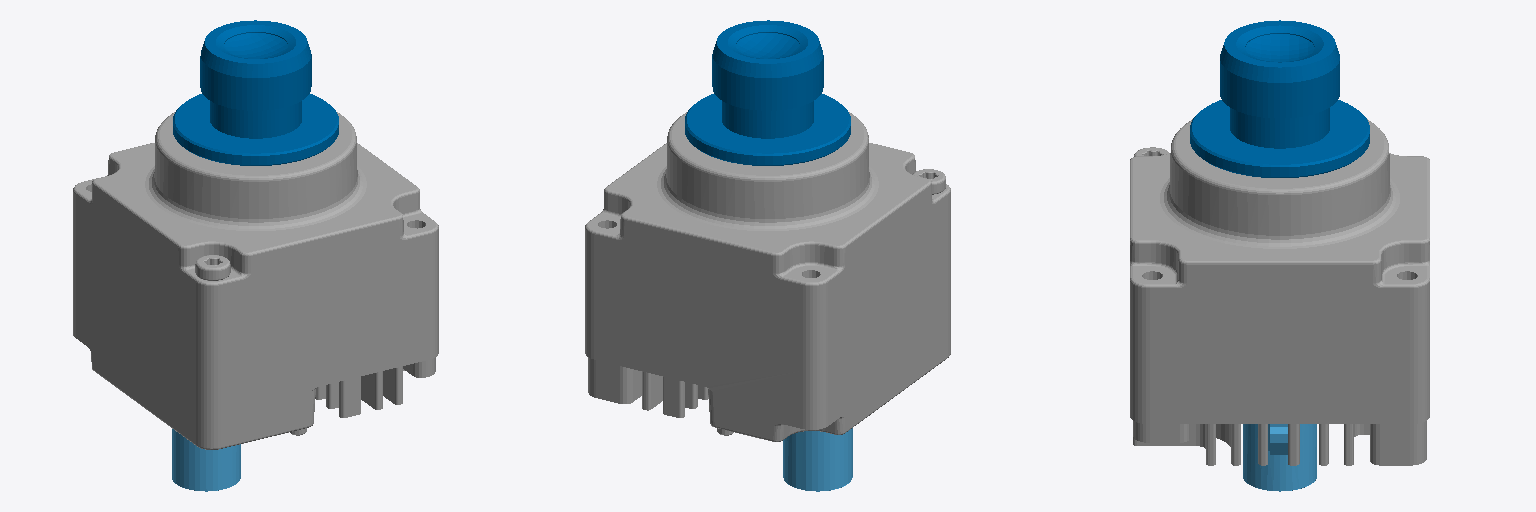
robot.urdf — SG2_OX03CC_5200_G2F_H60FA:
<?xml version="1.0"?>
<!-- Generated by usd2urdf.py from SG2_OX03CC_5200_G2F_H60FA.calibrated.acceptance.usd -->
<!-- metersPerUnit=0.01 upAxis=Z -->
<robot name="SG2_OX03CC_5200_G2F_H60FA">
  <link name="base_link">
  </link>
  <link name="Root">
  </link>
  <link name="SG2_OX03CC_5200_G2F_H60FA">
  </link>
  <link name="Lens">
  </link>
  <link name="Mesh">
    <visual>
      <origin xyz="0 0 0" rpy="0 0 0"/>
      <geometry>
        <mesh filename="meshes/Mesh.stl"/>
      </geometry>
    </visual>
    <collision>
      <origin xyz="0 0 0" rpy="0 0 0"/>
      <geometry>
        <mesh filename="meshes/Mesh.stl"/>
      </geometry>
    </collision>
    <inertial>
      <origin xyz="0 0 0" rpy="0 0 0"/>
      <mass value="0.15"/>
      <inertia ixx="0.000809999997" ixy="0" ixz="0" iyy="0.000797942422" iyz="0" izz="0.000797942422"/>
    </inertial>
  </link>
  <link name="SG2_OX03CC_5200_G2F_H60FA_1">
  </link>
  <link name="Bottom">
  </link>
  <link name="Mesh_1">
    <visual>
      <origin xyz="0 0 0" rpy="0 0 0"/>
      <geometry>
        <mesh filename="meshes/Mesh_1.stl"/>
      </geometry>
    </visual>
    <collision>
      <origin xyz="0 0 0" rpy="0 0 0"/>
      <geometry>
        <mesh filename="meshes/Mesh_1.stl"/>
      </geometry>
    </collision>
    <inertial>
      <origin xyz="0 0 0" rpy="0 0 0"/>
      <mass value="0.15"/>
      <inertia ixx="0.00129523575" ixy="0" ixz="0" iyy="0.00129523605" iyz="0" izz="0.00224999959"/>
    </inertial>
  </link>
  <link name="Fakra">
  </link>
  <link name="Mesh_2">
    <visual>
      <origin xyz="0 0 0" rpy="0 0 0"/>
      <geometry>
        <mesh filename="meshes/Mesh_2.stl"/>
      </geometry>
    </visual>
    <collision>
      <origin xyz="0 0 0" rpy="0 0 0"/>
      <geometry>
        <mesh filename="meshes/Mesh_2.stl"/>
      </geometry>
    </collision>
    <inertial>
      <origin xyz="0 0 0" rpy="0 0 0"/>
      <mass value="0.15"/>
      <inertia ixx="0.000664724477" ixy="0" ixz="0" iyy="0.00058952817" iyz="0" izz="0.000885196305"/>
    </inertial>
  </link>
  <link name="Screw_0">
  </link>
  <link name="Mesh_3">
    <visual>
      <origin xyz="0 0 0" rpy="0 0 0"/>
      <geometry>
        <mesh filename="meshes/Mesh_3.stl"/>
      </geometry>
    </visual>
    <collision>
      <origin xyz="0 0 0" rpy="0 0 0"/>
      <geometry>
        <mesh filename="meshes/Mesh_3.stl"/>
      </geometry>
    </collision>
    <inertial>
      <origin xyz="0 0 0" rpy="0 0 0"/>
      <mass value="0.15"/>
      <inertia ixx="5.56403021e-05" ixy="0" ixz="0" iyy="6.83231456e-05" iyz="0" izz="7.4797204e-05"/>
    </inertial>
  </link>
  <link name="Screw_1">
  </link>
  <link name="Mesh_4">
    <visual>
      <origin xyz="0 0 0" rpy="0 0 0"/>
      <geometry>
        <mesh filename="meshes/Mesh_4.stl"/>
      </geometry>
    </visual>
    <collision>
      <origin xyz="0 0 0" rpy="0 0 0"/>
      <geometry>
        <mesh filename="meshes/Mesh_4.stl"/>
      </geometry>
    </collision>
    <inertial>
      <origin xyz="0 0 0" rpy="0 0 0"/>
      <mass value="0.15"/>
      <inertia ixx="5.56403021e-05" ixy="0" ixz="0" iyy="6.83231456e-05" iyz="0" izz="7.4797204e-05"/>
    </inertial>
  </link>
  <link name="Screw_2">
  </link>
  <link name="Mesh_5">
    <visual>
      <origin xyz="0 0 0" rpy="0 0 0"/>
      <geometry>
        <mesh filename="meshes/Mesh_5.stl"/>
      </geometry>
    </visual>
    <collision>
      <origin xyz="0 0 0" rpy="0 0 0"/>
      <geometry>
        <mesh filename="meshes/Mesh_5.stl"/>
      </geometry>
    </collision>
    <inertial>
      <origin xyz="0 0 0" rpy="0 0 0"/>
      <mass value="0.15"/>
      <inertia ixx="0.00019460141" ixy="0" ixz="0" iyy="0.000318485579" iyz="0" izz="0.000361750605"/>
    </inertial>
  </link>
  <link name="Screw_3">
  </link>
  <link name="Mesh_6">
    <visual>
      <origin xyz="0 0 0" rpy="0 0 0"/>
      <geometry>
        <mesh filename="meshes/Mesh_6.stl"/>
      </geometry>
    </visual>
    <collision>
      <origin xyz="0 0 0" rpy="0 0 0"/>
      <geometry>
        <mesh filename="meshes/Mesh_6.stl"/>
      </geometry>
    </collision>
    <inertial>
      <origin xyz="0 0 0" rpy="0 0 0"/>
      <mass value="0.15"/>
      <inertia ixx="0.00019460141" ixy="0" ixz="0" iyy="0.000318485579" iyz="0" izz="0.000361750605"/>
    </inertial>
  </link>
  <link name="Screw_4">
  </link>
  <link name="Mesh_7">
    <visual>
      <origin xyz="0 0 0" rpy="0 0 0"/>
      <geometry>
        <mesh filename="meshes/Mesh_7.stl"/>
      </geometry>
    </visual>
    <collision>
      <origin xyz="0 0 0" rpy="0 0 0"/>
      <geometry>
        <mesh filename="meshes/Mesh_7.stl"/>
      </geometry>
    </collision>
    <inertial>
      <origin xyz="0 0 0" rpy="0 0 0"/>
      <mass value="0.15"/>
      <inertia ixx="0.00019460141" ixy="0" ixz="0" iyy="0.000318485579" iyz="0" izz="0.000361750605"/>
    </inertial>
  </link>
  <link name="Screw_5">
  </link>
  <link name="Mesh_8">
    <visual>
      <origin xyz="0 0 0" rpy="0 0 0"/>
      <geometry>
        <mesh filename="meshes/Mesh_8.stl"/>
      </geometry>
    </visual>
    <collision>
      <origin xyz="0 0 0" rpy="0 0 0"/>
      <geometry>
        <mesh filename="meshes/Mesh_8.stl"/>
      </geometry>
    </collision>
    <inertial>
      <origin xyz="0 0 0" rpy="0 0 0"/>
      <mass value="0.15"/>
      <inertia ixx="0.00019460141" ixy="0" ixz="0" iyy="0.000318485579" iyz="0" izz="0.000361750605"/>
    </inertial>
  </link>
  <link name="Top">
  </link>
  <link name="Mesh_9">
    <visual>
      <origin xyz="0 0 0" rpy="0 0 0"/>
      <geometry>
        <mesh filename="meshes/Mesh_9.stl"/>
      </geometry>
    </visual>
    <collision>
      <origin xyz="0 0 0" rpy="0 0 0"/>
      <geometry>
        <mesh filename="meshes/Mesh_9.stl"/>
      </geometry>
    </collision>
    <inertial>
      <origin xyz="0 0 0" rpy="0 0 0"/>
      <mass value="0.15"/>
      <inertia ixx="0.00157553788" ixy="0" ixz="0" iyy="0.00157553788" iyz="0" izz="0.00225000018"/>
    </inertial>
  </link>
  <link name="MainBoard">
  </link>
  <link name="Mesh_10">
    <visual>
      <origin xyz="0 0 0" rpy="0 0 0"/>
      <geometry>
        <mesh filename="meshes/Mesh_10.stl"/>
      </geometry>
    </visual>
    <collision>
      <origin xyz="0 0 0" rpy="0 0 0"/>
      <geometry>
        <mesh filename="meshes/Mesh_10.stl"/>
      </geometry>
    </collision>
    <inertial>
      <origin xyz="0 0 0" rpy="0 0 0"/>
      <mass value="0.15"/>
      <inertia ixx="0.000699072973" ixy="0" ixz="0" iyy="0.000699072973" iyz="0" izz="0.00139240002"/>
    </inertial>
  </link>
  <link name="Fakra_1">
  </link>
  <link name="Mesh_11">
    <visual>
      <origin xyz="0 0 0" rpy="0 0 0"/>
      <geometry>
        <mesh filename="meshes/Mesh_11.stl"/>
      </geometry>
    </visual>
    <collision>
      <origin xyz="0 0 0" rpy="0 0 0"/>
      <geometry>
        <mesh filename="meshes/Mesh_11.stl"/>
      </geometry>
    </collision>
    <inertial>
      <origin xyz="0 0 0" rpy="0 0 0"/>
      <mass value="0.15"/>
      <inertia ixx="8.35274667e-05" ixy="0" ixz="0" iyy="9.47521382e-05" iyz="0" izz="6.43733459e-05"/>
    </inertial>
  </link>
  <link name="SealRing">
  </link>
  <link name="Mesh_12">
    <visual>
      <origin xyz="0 0 0" rpy="0 0 0"/>
      <geometry>
        <mesh filename="meshes/Mesh_12.stl"/>
      </geometry>
    </visual>
    <collision>
      <origin xyz="0 0 0" rpy="0 0 0"/>
      <geometry>
        <mesh filename="meshes/Mesh_12.stl"/>
      </geometry>
    </collision>
    <inertial>
      <origin xyz="0 0 0" rpy="0 0 0"/>
      <mass value="0.15"/>
      <inertia ixx="0.00194225054" ixy="0" ixz="0" iyy="0.000985244153" iyz="0" izz="0.000995913341"/>
    </inertial>
  </link>
  <link name="root_sg2_ox03cc_5200_g2f_h60fa">
  </link>
  <joint name="base_link_to_Root" type="fixed">
    <parent link="base_link"/>
    <child link="Root"/>
    <origin xyz="0 0 0" rpy="0 0 0"/>
  </joint>
  <joint name="Root_to_SG2_OX03CC_5200_G2F_H60FA" type="fixed">
    <parent link="Root"/>
    <child link="SG2_OX03CC_5200_G2F_H60FA"/>
    <origin xyz="0 0 0" rpy="0 0 0"/>
  </joint>
  <joint name="SG2_OX03CC_5200_G2F_H60FA_to_Lens" type="fixed">
    <parent link="SG2_OX03CC_5200_G2F_H60FA"/>
    <child link="Lens"/>
    <origin xyz="0.152359832 0.152359847 0.0618360871" rpy="0 1.57079633 0"/>
  </joint>
  <joint name="Lens_to_Mesh" type="fixed">
    <parent link="Lens"/>
    <child link="Mesh"/>
    <origin xyz="0.152359832 0.152359847 -0.0139998639" rpy="0 0 0"/>
  </joint>
  <joint name="Mesh_to_SG2_OX03CC_5200_G2F_H60FA_1" type="fixed">
    <parent link="Mesh"/>
    <child link="SG2_OX03CC_5200_G2F_H60FA_1"/>
    <origin xyz="-0.170689599 -0.156132135 0.016241701" rpy="-1.57079633 0 -1.57079633"/>
  </joint>
  <joint name="SG2_OX03CC_5200_G2F_H60FA_to_Bottom" type="fixed">
    <parent link="SG2_OX03CC_5200_G2F_H60FA"/>
    <child link="Bottom"/>
    <origin xyz="0.152359832 1.03235985 -0.145" rpy="0 0 0"/>
  </joint>
  <joint name="Bottom_to_Mesh_1" type="fixed">
    <parent link="Bottom"/>
    <child link="Mesh_1"/>
    <origin xyz="0.152359837 0.152359847 -0.277349999" rpy="0 0 0"/>
  </joint>
  <joint name="SG2_OX03CC_5200_G2F_H60FA_to_Fakra" type="fixed">
    <parent link="SG2_OX03CC_5200_G2F_H60FA"/>
    <child link="Fakra"/>
    <origin xyz="0.090159819 0.15221699 -0.4212" rpy="0 1.57079633 0"/>
  </joint>
  <joint name="Fakra_to_Mesh_2" type="fixed">
    <parent link="Fakra"/>
    <child link="Mesh_2"/>
    <origin xyz="0.0919098185 0.152217362 -0.339199996" rpy="0 0 0"/>
  </joint>
  <joint name="SG2_OX03CC_5200_G2F_H60FA_to_Screw_0" type="fixed">
    <parent link="SG2_OX03CC_5200_G2F_H60FA"/>
    <child link="Screw_0"/>
    <origin xyz="-3.77401047 -13.818492 -3.80940256" rpy="-2.18248173 -0.941486389 0.515846833"/>
  </joint>
  <joint name="Screw_0_to_Mesh_3" type="fixed">
    <parent link="Screw_0"/>
    <child link="Mesh_3"/>
    <origin xyz="8.88992004 -0.797999001 12.0301788" rpy="0 0 0"/>
  </joint>
  <joint name="SG2_OX03CC_5200_G2F_H60FA_to_Screw_1" type="fixed">
    <parent link="SG2_OX03CC_5200_G2F_H60FA"/>
    <child link="Screw_1"/>
    <origin xyz="-3.77401047 -13.954492 -3.80940256" rpy="-2.18248173 -0.941486389 0.515846833"/>
  </joint>
  <joint name="Screw_1_to_Mesh_4" type="fixed">
    <parent link="Screw_1"/>
    <child link="Mesh_4"/>
    <origin xyz="8.88992004 -0.797999001 12.0301788" rpy="0 0 0"/>
  </joint>
  <joint name="SG2_OX03CC_5200_G2F_H60FA_to_Screw_2" type="fixed">
    <parent link="SG2_OX03CC_5200_G2F_H60FA"/>
    <child link="Screw_2"/>
    <origin xyz="3.88953013 -14.013492 3.37720256" rpy="0.959110919 0.941486389 2.62574582"/>
  </joint>
  <joint name="Screw_2_to_Mesh_5" type="fixed">
    <parent link="Screw_2"/>
    <child link="Mesh_5"/>
    <origin xyz="8.9300647 -0.821854897 12.0134467" rpy="0 0 0"/>
  </joint>
  <joint name="SG2_OX03CC_5200_G2F_H60FA_to_Screw_3" type="fixed">
    <parent link="SG2_OX03CC_5200_G2F_H60FA"/>
    <child link="Screw_3"/>
    <origin xyz="3.88953013 -13.759492 3.37720256" rpy="0.959110919 0.941486389 2.62574582"/>
  </joint>
  <joint name="Screw_3_to_Mesh_6" type="fixed">
    <parent link="Screw_3"/>
    <child link="Mesh_6"/>
    <origin xyz="8.9300647 -0.821854897 12.0134467" rpy="0 0 0"/>
  </joint>
  <joint name="SG2_OX03CC_5200_G2F_H60FA_to_Screw_4" type="fixed">
    <parent link="SG2_OX03CC_5200_G2F_H60FA"/>
    <child link="Screw_4"/>
    <origin xyz="4.14353013 -13.759492 3.37720256" rpy="0.959110919 0.941486389 2.62574582"/>
  </joint>
  <joint name="Screw_4_to_Mesh_7" type="fixed">
    <parent link="Screw_4"/>
    <child link="Mesh_7"/>
    <origin xyz="8.9300647 -0.821854897 12.0134467" rpy="0 0 0"/>
  </joint>
  <joint name="SG2_OX03CC_5200_G2F_H60FA_to_Screw_5" type="fixed">
    <parent link="SG2_OX03CC_5200_G2F_H60FA"/>
    <child link="Screw_5"/>
    <origin xyz="4.14353013 -14.013492 3.37720256" rpy="0.959110919 0.941486389 2.62574582"/>
  </joint>
  <joint name="Screw_5_to_Mesh_8" type="fixed">
    <parent link="Screw_5"/>
    <child link="Mesh_8"/>
    <origin xyz="8.9300647 -0.821854897 12.0134467" rpy="0 0 0"/>
  </joint>
  <joint name="SG2_OX03CC_5200_G2F_H60FA_to_Top" type="fixed">
    <parent link="SG2_OX03CC_5200_G2F_H60FA"/>
    <child link="Top"/>
    <origin xyz="0.152359832 1.03235985 -0.145" rpy="0 0 0"/>
  </joint>
  <joint name="Top_to_Mesh_9" type="fixed">
    <parent link="Top"/>
    <child link="Mesh_9"/>
    <origin xyz="0 -0.88 0.0139249992" rpy="0 0 0"/>
  </joint>
  <joint name="Top_to_MainBoard" type="fixed">
    <parent link="Top"/>
    <child link="MainBoard"/>
    <origin xyz="0.0730375867 -0.797340556 -0.0677043437" rpy="-3.14159112 6.23674116e-05 -1.57203282"/>
  </joint>
  <joint name="MainBoard_to_Mesh_10" type="fixed">
    <parent link="MainBoard"/>
    <child link="Mesh_10"/>
    <origin xyz="0.152465018 0.152279891 -0.220289819" rpy="0 0 0"/>
  </joint>
  <joint name="Top_to_Fakra_1" type="fixed">
    <parent link="Top"/>
    <child link="Fakra_1"/>
    <origin xyz="-0.0623060962 -0.817800749 -0.000370065684" rpy="0 0 1.57079566"/>
  </joint>
  <joint name="Fakra_1_to_Mesh_11" type="fixed">
    <parent link="Fakra_1"/>
    <child link="Mesh_11"/>
    <origin xyz="0.0921076861 0.152359083 -0.256620066" rpy="0 0 0"/>
  </joint>
  <joint name="Top_to_SealRing" type="fixed">
    <parent link="Top"/>
    <child link="SealRing"/>
    <origin xyz="9.20115343 -6.88000117 -12.359574" rpy="-3.14159265 1.46607657 -4.05858687e-08"/>
  </joint>
  <joint name="SealRing_to_Mesh_12" type="fixed">
    <parent link="SealRing"/>
    <child link="Mesh_12"/>
    <origin xyz="0.152359753 0.152359661 -0.167000062" rpy="0 0 0"/>
  </joint>
  <joint name="SG2_OX03CC_5200_G2F_H60FA_to_root_sg2_ox03cc_5200_g2f_h60fa" type="fixed">
    <parent link="SG2_OX03CC_5200_G2F_H60FA"/>
    <child link="root_sg2_ox03cc_5200_g2f_h60fa"/>
    <origin xyz="0.154601669 0.148587558 0.0801658537" rpy="0 0 -1.57079633"/>
  </joint>
</robot>

--- Facts derived from the render (not from the file) ---
The picture shows the robot from 3 angles, left to right: view 1: azimuth 30°, elevation 25°; view 2: azimuth 150°, elevation 25°; view 3: azimuth 270°, elevation 25°; orthographic projection.
Robot: SG2_OX03CC_5200_G2F_H60FA — 31 links, 30 joints (30 fixed); root link base_link; default pose: all joints at 0.
Links seen in each view (by area): view 1: Mesh_9, Mesh_1, Mesh, Mesh_2, Mesh_5; view 2: Mesh_9, Mesh_1, Mesh, Mesh_2; view 3: Mesh_9, Mesh, Mesh_1, Mesh_2.
Boxes of the visible links, left/top/right/bottom form: Mesh_9: left=73, top=112, right=438, bottom=371; Mesh_1: left=73, top=277, right=438, bottom=449; Mesh: left=173, top=20, right=338, bottom=165; Mesh_2: left=172, top=429, right=240, bottom=491; Mesh_5: left=195, top=255, right=230, bottom=280; Mesh_9: left=585, top=112, right=950, bottom=371; Mesh_1: left=585, top=277, right=950, bottom=441; Mesh: left=685, top=20, right=850, bottom=165; Mesh_2: left=783, top=428, right=852, bottom=491; Mesh_9: left=1130, top=119, right=1429, bottom=380; Mesh: left=1190, top=20, right=1369, bottom=177; Mesh_1: left=1130, top=375, right=1429, bottom=465; Mesh_2: left=1243, top=424, right=1316, bottom=491.
Size in the robot's own frame: 0.3 by 0.3 by 0.5039 metres.
9 mesh visuals loaded from 13 distinct referenced files (9 binary STL); not drawn: 4 (reference not matched to a file when rendering).
